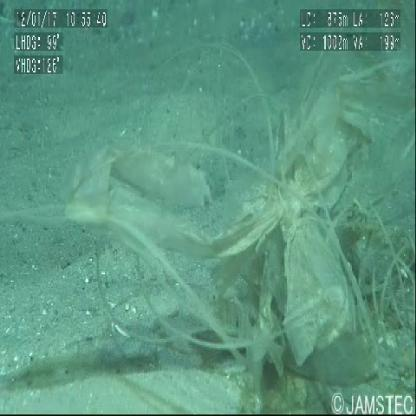Rác: (62, 97, 416, 398)
